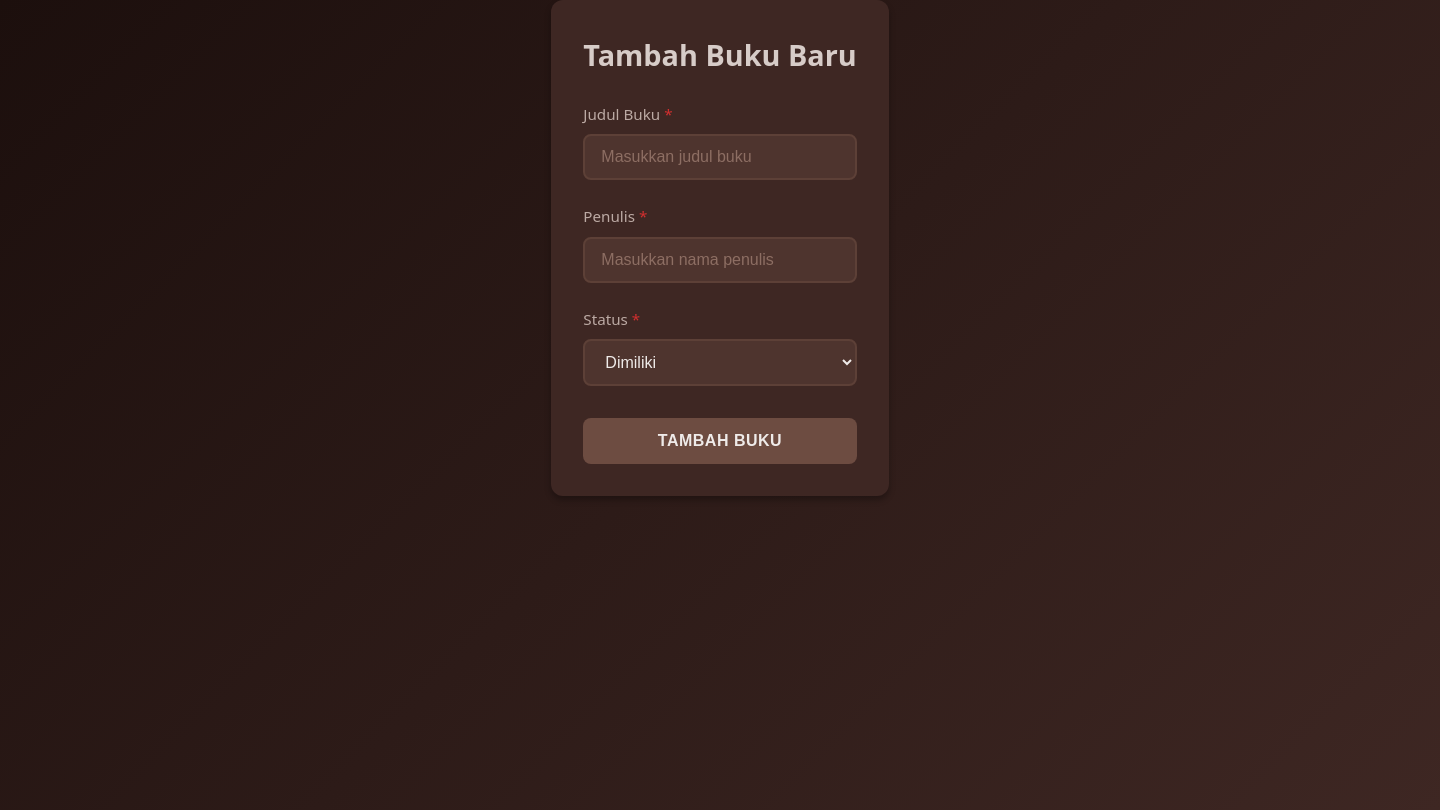
Scenario: BookForm Component › validates minimum character length
Type "Ab" into the field labelled "Judul Buku *" at [720, 157], box [583,134,857,180]
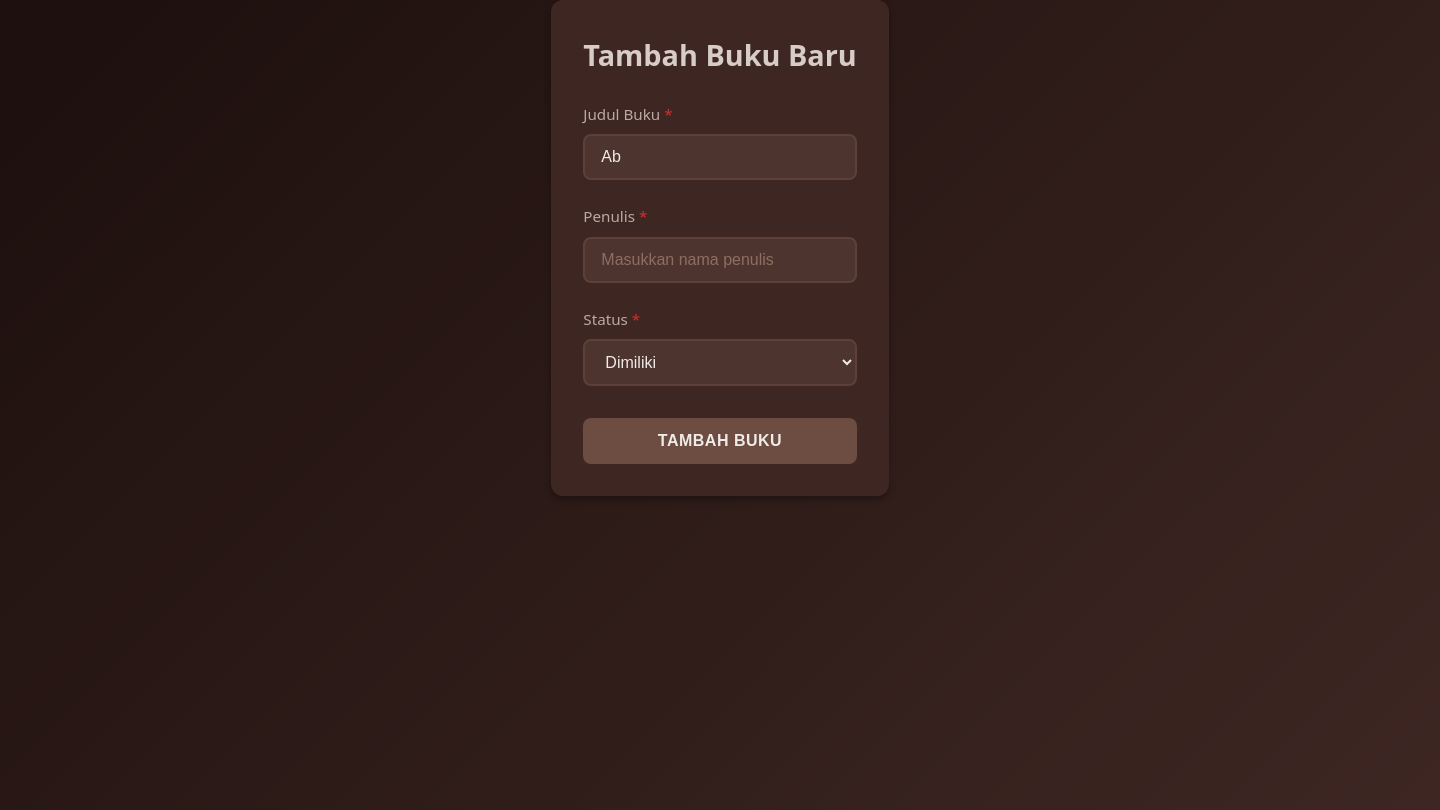
Type "Cd" into the field labelled "Penulis *" at [720, 260], box [583,237,857,283]
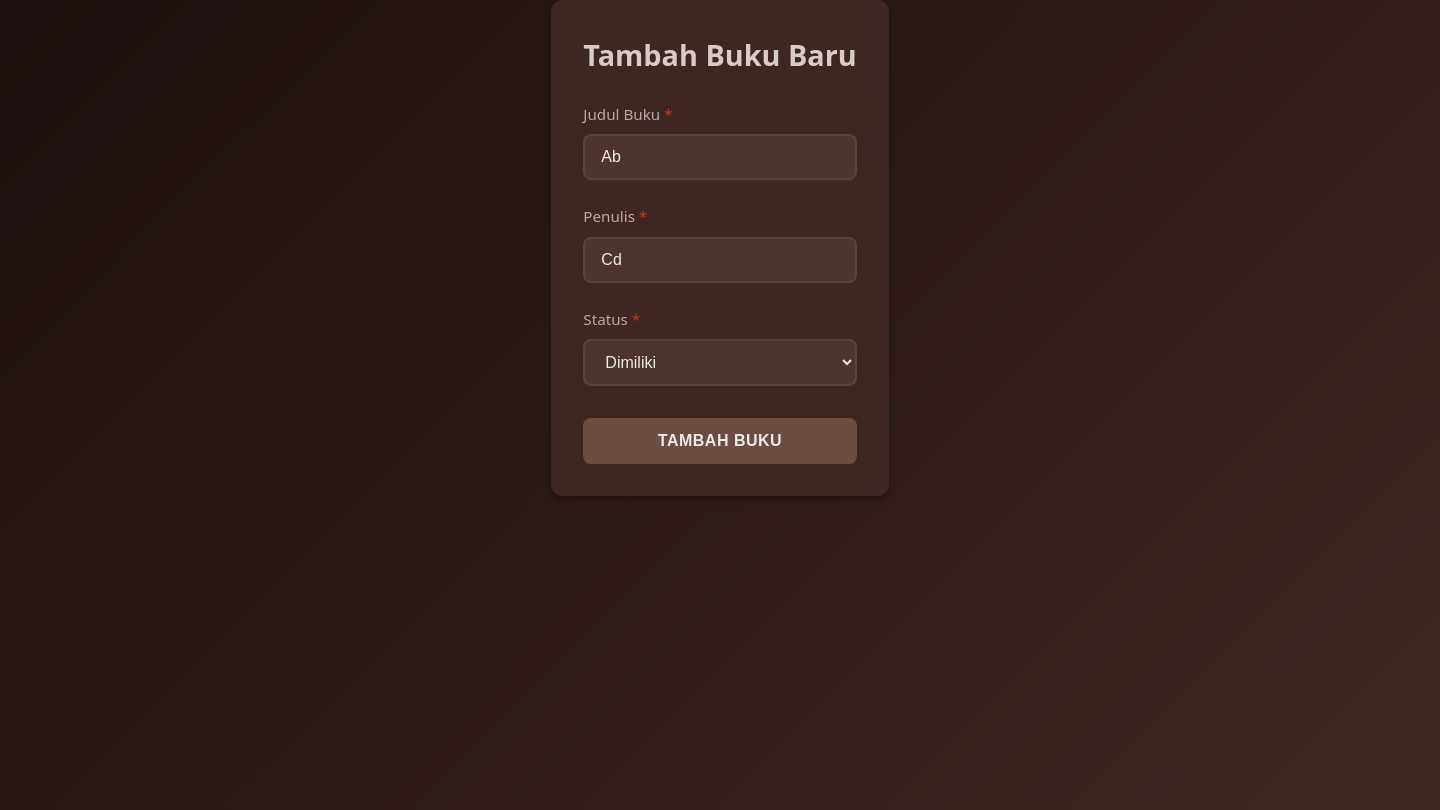
Click the button "Tambah Buku" at [720, 441], box [583,418,857,464]
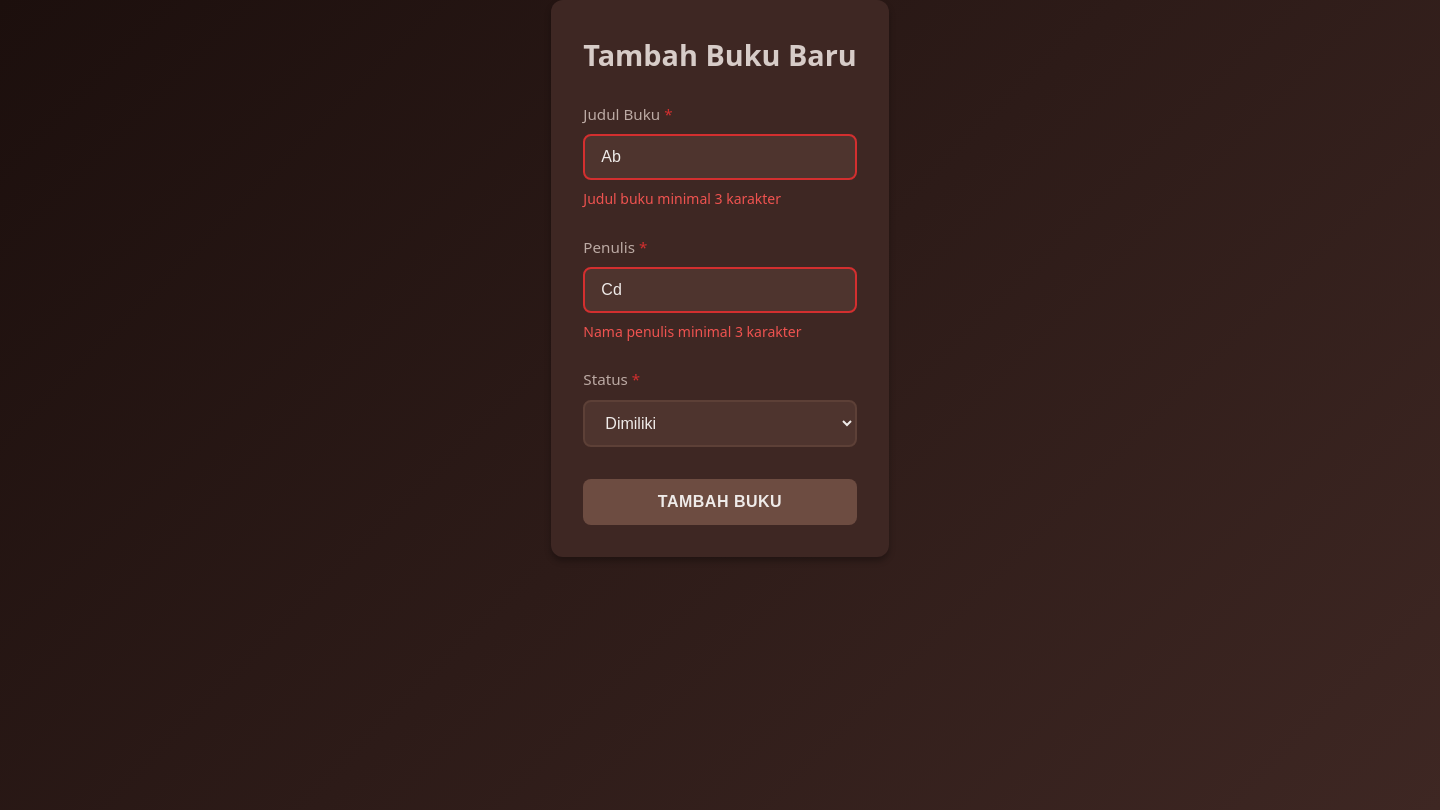
expect the text "Judul buku minimal 3 karakter" is shown: met, box [583,189,781,208]
expect the text "Nama penulis minimal 3 karakter" is shown: met, box [583,322,802,341]
